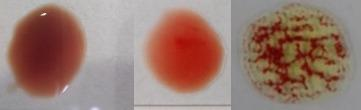B: (245, 6, 349, 98)
